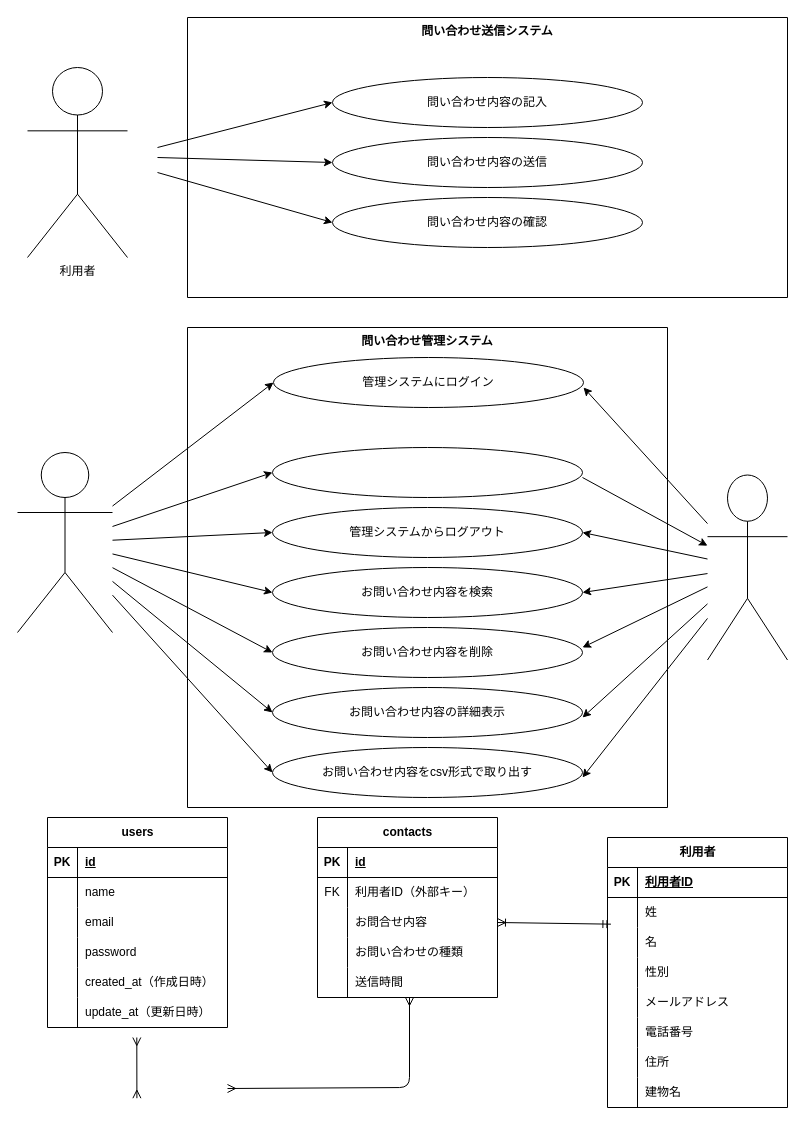
The diagram is 805 pixels wide and 1125 high, and some of its shapes have lost their labels. The shapes that lost their labels are listed below. From the top down, each one's centre as x and y in pixels, then its label:
(x=427, y=472): 新規ユーザーの作成・登録
(x=64, y=542): 管理者
(x=747, y=567): 新規管理者
